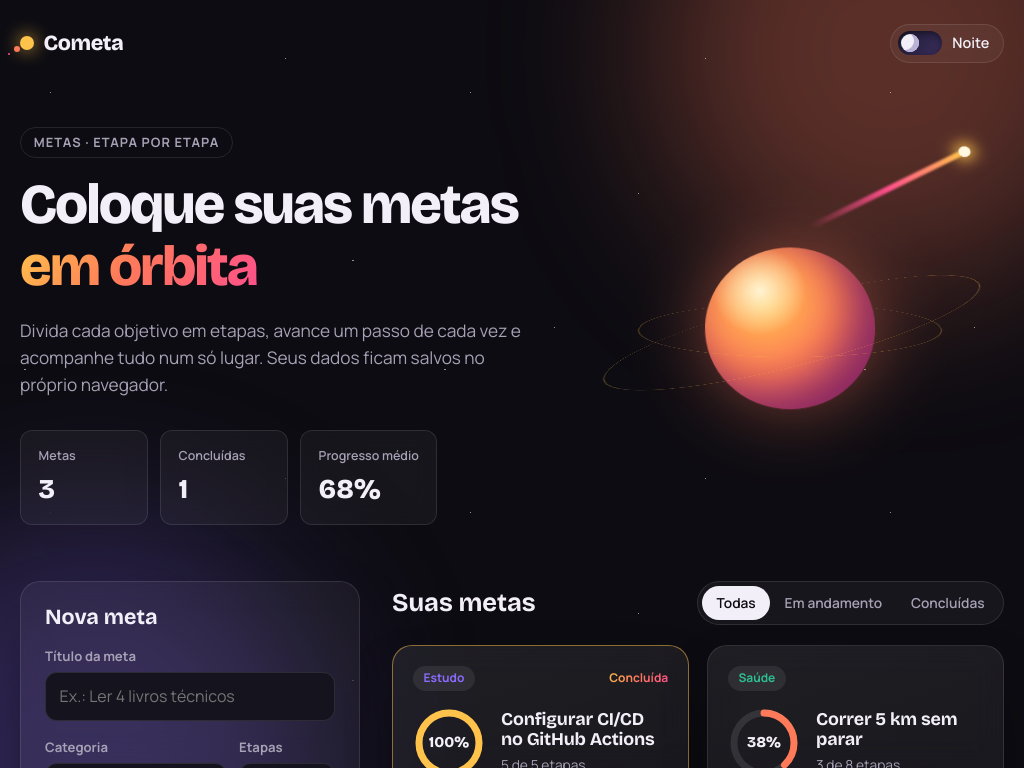
Test: App Cometa › adiciona uma meta nova e limpa o formulário
In the field labelled "Título da meta": (190, 696) x1=45 y1=672 x2=335 y2=721, type "Ler 4 livros técnicos"
(page scrolled)
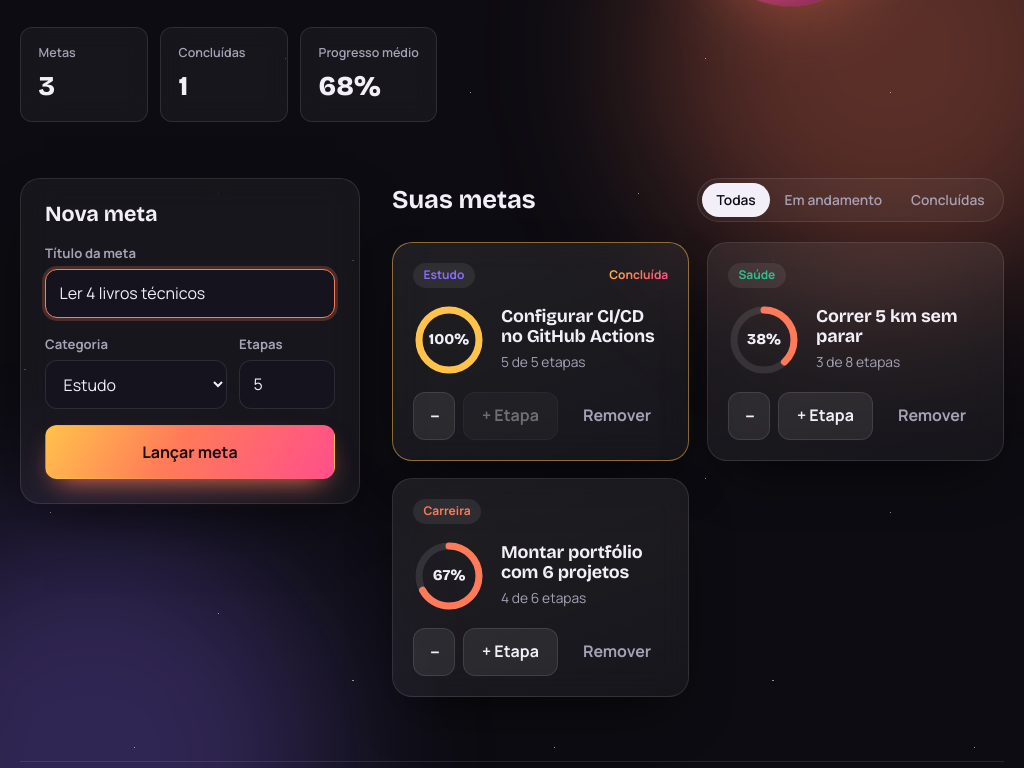
Select "Carreira" in the dropdown labelled "Categoria": (136, 385) x1=45 y1=360 x2=227 y2=409
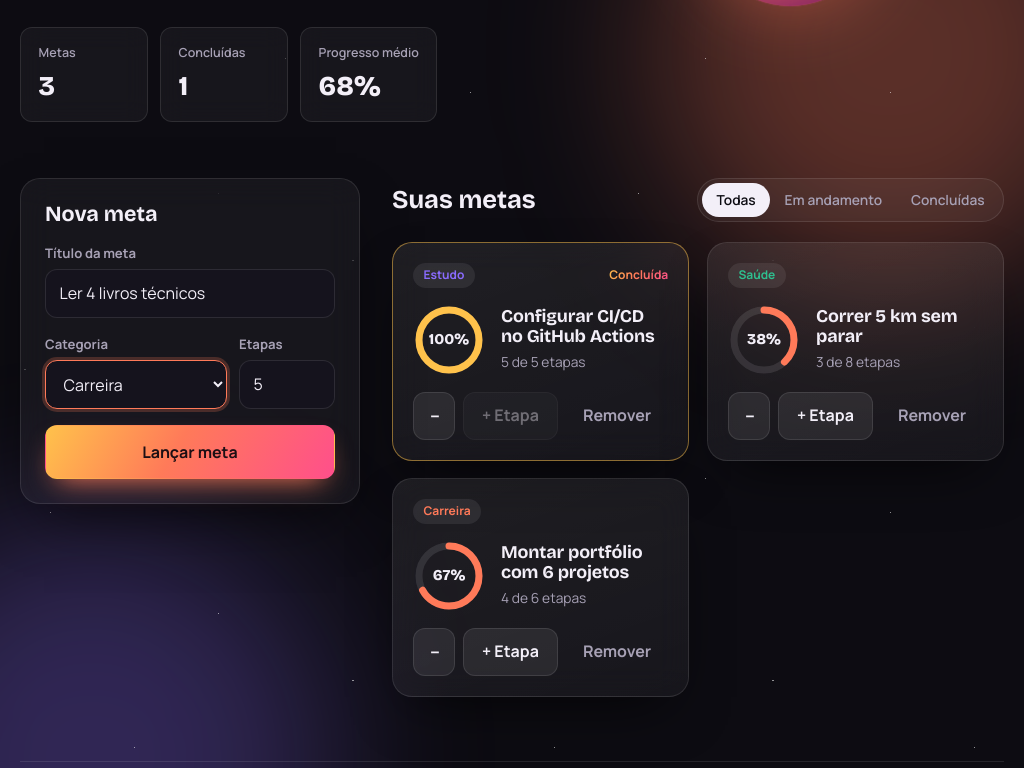
Replace the text in the number field labelled "Etapas" with "4": (287, 384) x1=239 y1=360 x2=335 y2=409
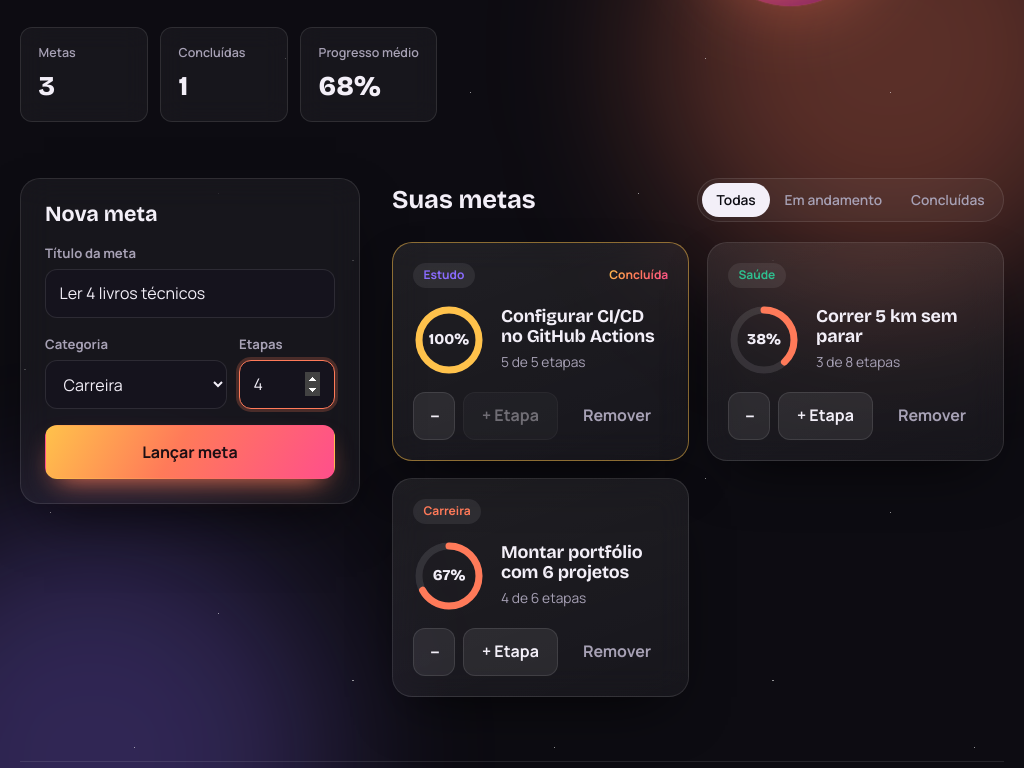
Click the button "Lançar meta": click(190, 452) x1=45 y1=425 x2=335 y2=479
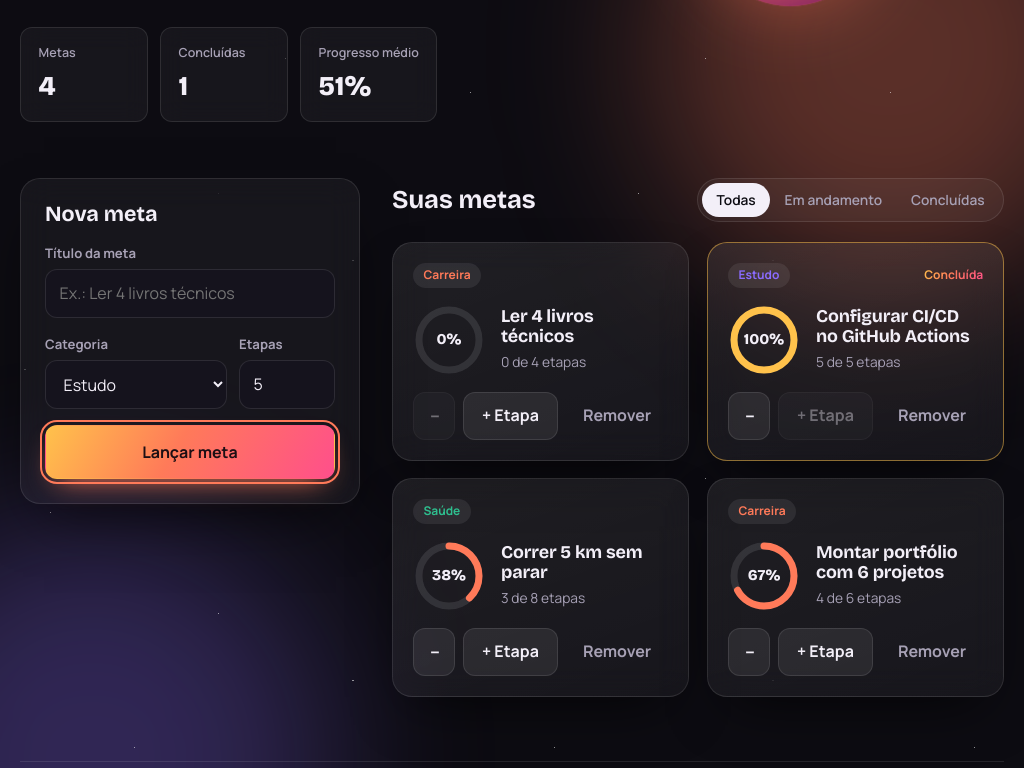
Check: the 1st text "Carreira" is shown, box x1=413 y1=263 x2=481 y2=288
Check: the text "0 de 4 etapas" is shown, box x1=501 y1=353 x2=586 y2=372
Check: the field labelled "Título da meta" is empty, box x1=45 y1=269 x2=335 y2=318
